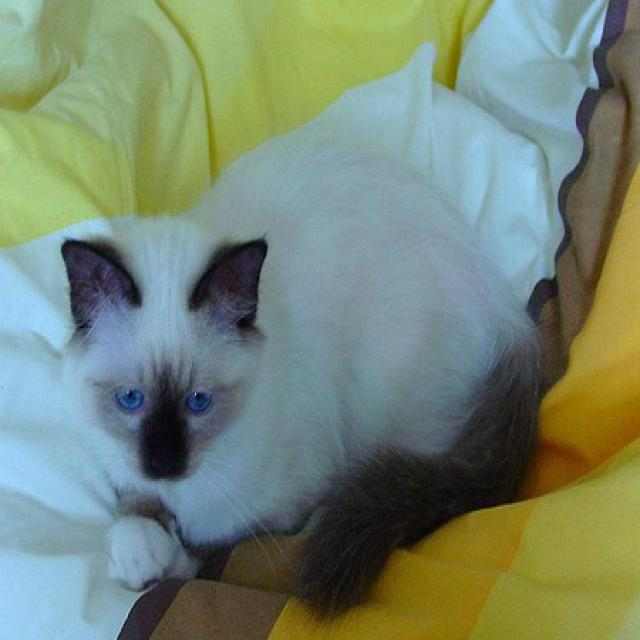Birman: (59, 134, 548, 617)
